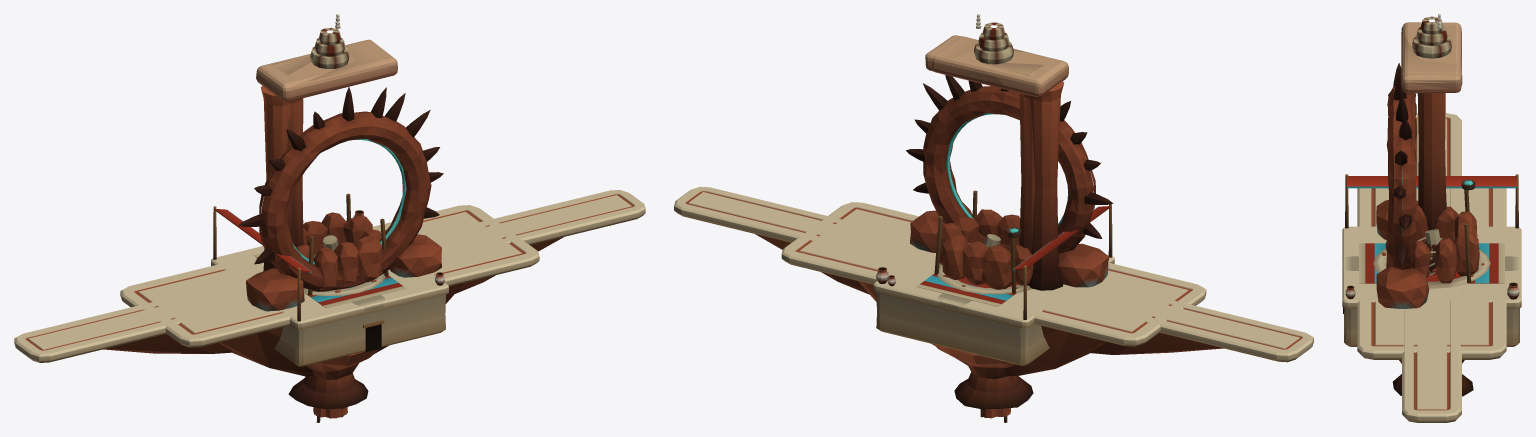
File: canyon-1-05W1Y-py.glb
The picture shows the model from 3 angles, left to right: view 1: azimuth 30°, elevation 25°; view 2: azimuth 150°, elevation 25°; view 3: azimuth 270°, elevation 25°; orthographic projection.
Parts seen in each view (by area): view 1: portal_#0, pad_12x2x12#0, block_48x2x4#0, block_28x2x10#0, hopper_4x3#0, pressFrame_5.5x6x3x7#0, pressFrame_4.5x6x3x7#0, pressFrame_4x6x2.5x7_snake#0; view 2: block_48x2x4#0, pad_12x2x12#0, block_28x2x10#0, portal_#0, pressFrame_5.5x6x3x7#0, hopper_4x3#0, pressFrame_4x6x2.5x7_snake#0, pressFrame_4.5x6x3x7#0, geyserVent_8#0; view 3: pad_12x2x12#0, block_48x2x4#0, block_28x2x10#0, portal_#0, pressFrame_4x6x2.5x7_snake#0, hopper_4x3#0, pressFrame_5.5x6x3x7#0, pressFrame_4.5x6x3x7#0, geyserVent_8#0, block_2.5x2x12#0, press_2.5x6x4_snake#0.
Boxes of the visible parts, box(x1,y1,x2,y2) form: portal_#0: box(238, 87, 443, 311); pad_12x2x12#0: box(211, 206, 448, 408); block_48x2x4#0: box(14, 190, 645, 362); block_28x2x10#0: box(120, 205, 539, 376); hopper_4x3#0: box(296, 193, 388, 295); pressFrame_5.5x6x3x7#0: box(256, 39, 397, 271); pressFrame_4.5x6x3x7#0: box(287, 41, 390, 237); pressFrame_4x6x2.5x7_snake#0: box(271, 14, 349, 247); block_48x2x4#0: box(674, 186, 1313, 362); pad_12x2x12#0: box(873, 204, 1114, 409); block_28x2x10#0: box(781, 202, 1206, 375); portal_#0: box(906, 75, 1113, 287); pressFrame_5.5x6x3x7#0: box(925, 35, 1068, 290); hopper_4x3#0: box(934, 190, 1033, 293); pressFrame_4x6x2.5x7_snake#0: box(974, 14, 1043, 253); pressFrame_4.5x6x3x7#0: box(931, 36, 1036, 285); geyserVent_8#0: box(937, 263, 1032, 294); pad_12x2x12#0: box(1342, 174, 1521, 396); block_48x2x4#0: box(1402, 113, 1461, 422); block_28x2x10#0: box(1357, 188, 1506, 363); portal_#0: box(1376, 63, 1429, 308); pressFrame_4x6x2.5x7_snake#0: box(1412, 14, 1454, 242); hopper_4x3#0: box(1385, 179, 1479, 283); pressFrame_5.5x6x3x7#0: box(1401, 22, 1461, 206); pressFrame_4.5x6x3x7#0: box(1401, 28, 1462, 190); geyserVent_8#0: box(1373, 248, 1490, 288); block_2.5x2x12#0: box(1342, 256, 1521, 270); press_2.5x6x4_snake#0: box(1425, 229, 1440, 251).
Size of the model in its own units: 48 by 29.86 by 12.
